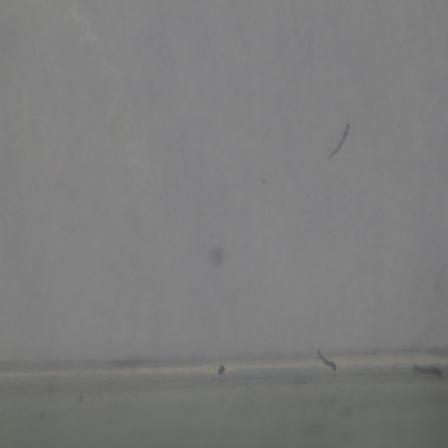Jentik-Nyamuk: (324, 118, 356, 162), (314, 348, 338, 378)
